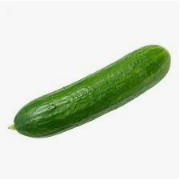Kumquat: (9, 37, 173, 146)
